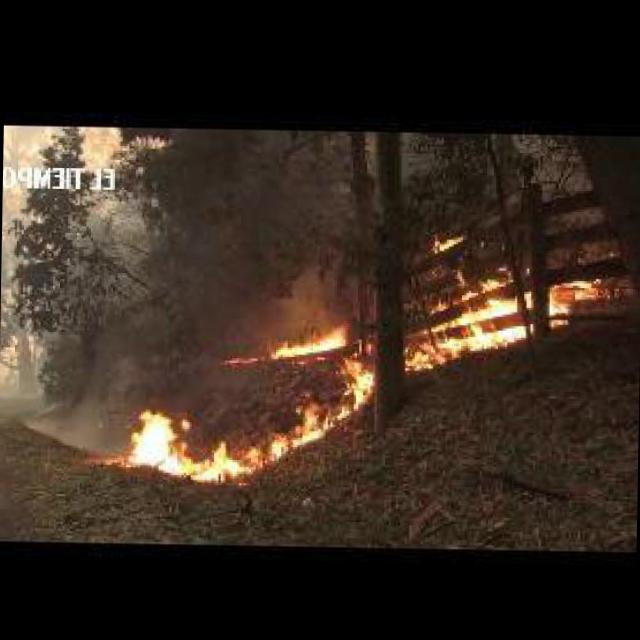fire: (128, 402, 323, 487), (406, 273, 534, 370), (334, 357, 376, 420), (549, 278, 603, 327), (273, 324, 348, 358), (432, 232, 467, 254), (213, 352, 260, 368)
